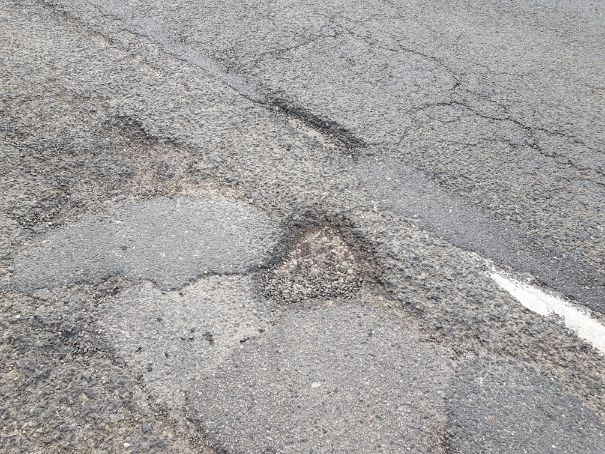pothole: (250, 201, 385, 308), (101, 111, 213, 199), (253, 93, 367, 161)
